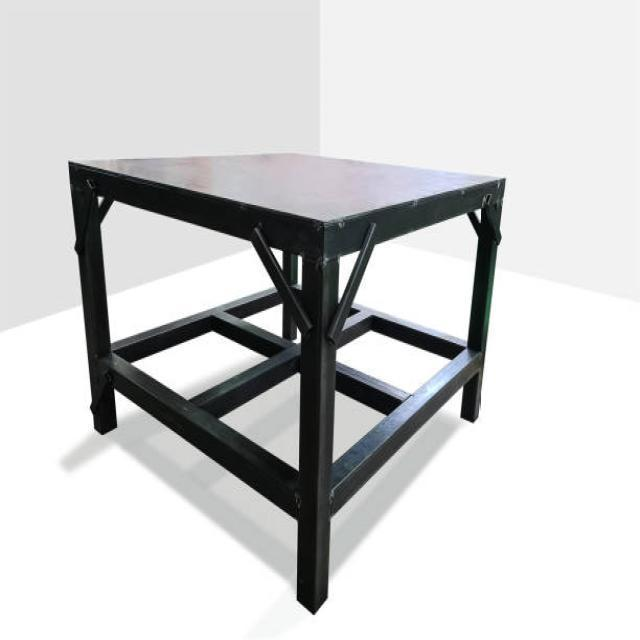table: (67, 149, 506, 614)
